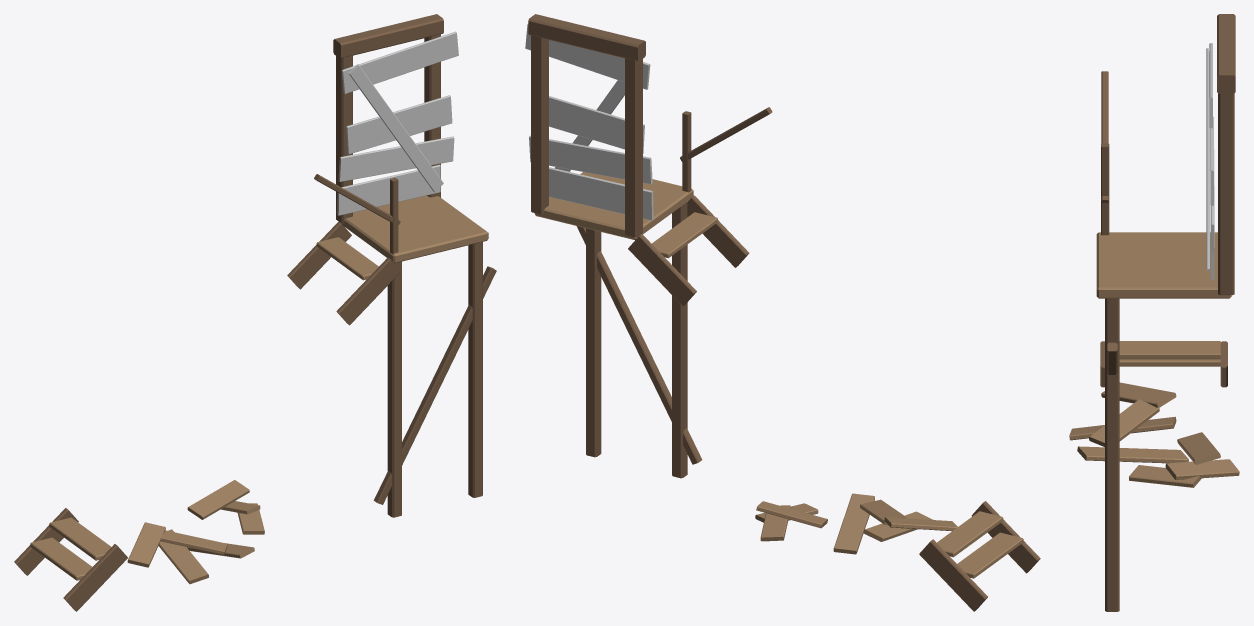
Rendered from broken_stair.glb.
3 views of the same model, side by side, from view 1: azimuth 30°, elevation 25°; view 2: azimuth 150°, elevation 25°; view 3: azimuth 270°, elevation 25° (orthographic). The views are drawn at different scales.
Visible parts, largest first — view 1: broken_stair; view 2: broken_stair; view 3: broken_stair.
Part boxes in pixels (bbox=[...]): broken_stair: bbox=[14, 14, 496, 611]; broken_stair: bbox=[525, 14, 1040, 611]; broken_stair: bbox=[1069, 14, 1239, 611].
Bounding box in the file's own units: 5.96 × 5.95 × 1.64.
